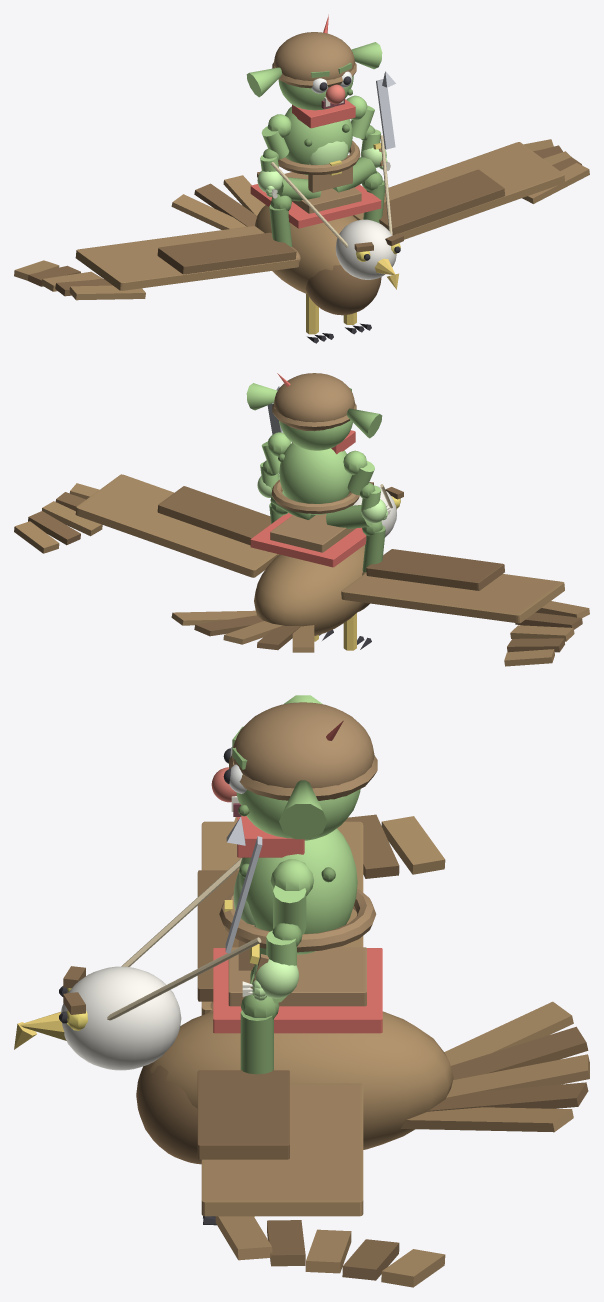
File: troll_eaglerider.glb
3 views of the same model, one above another, from view 1: azimuth 30°, elevation 25°; view 2: azimuth 150°, elevation 25°; view 3: azimuth 270°, elevation 25° (orthographic). The views are drawn at different scales.
Visible parts, largest first — view 1: Eagle_Wing, Eagle_Wing.001, Eagle_WingCovert.001, Eagle_WingCovert, Eagle_Body, EagleRider_Cap, Eagle_Breast, Eagle_Head, EagleRider_Body, Eagle_Blanket, Eagle_TailFeather, Eagle_TailFeather.001 (+23 smaller); view 2: Eagle_Wing.001, Eagle_Wing, Eagle_Body, Eagle_WingCovert, EagleRider_Body, Eagle_WingCovert.001, EagleRider_Cap, Eagle_Blanket, Eagle_Saddle, EagleRider_Head, EagleRider_Belt, Eagle_Primary.007 (+23 smaller); view 3: Eagle_Body, Eagle_Wing.001, EagleRider_Cap, Eagle_Head, Eagle_WingCovert.001, EagleRider_Body, Eagle_Blanket, Eagle_Saddle, Eagle_Breast, Eagle_TailFeather.004, Eagle_TailFeather, Eagle_TailFeather.001 (+24 smaller).
Boxes of the visible parts, left/top/right/bottom form: Eagle_Wing: left=75, top=226, right=299, bottom=290; Eagle_Wing.001: left=353, top=142, right=564, bottom=239; Eagle_WingCovert.001: left=379, top=169, right=505, bottom=235; Eagle_WingCovert: left=157, top=232, right=296, bottom=274; Eagle_Body: left=255, top=205, right=357, bottom=293; EagleRider_Cap: left=274, top=32, right=354, bottom=80; Eagle_Breast: left=305, top=265, right=381, bottom=315; Eagle_Head: left=335, top=219, right=396, bottom=279; EagleRider_Body: left=284, top=106, right=352, bottom=175; Eagle_Blanket: left=250, top=184, right=381, bottom=228; Eagle_TailFeather: left=171, top=194, right=246, bottom=229; Eagle_TailFeather.001: left=194, top=183, right=256, bottom=226; Eagle_Wing.001: left=75, top=474, right=278, bottom=577; Eagle_Wing: left=341, top=573, right=564, bottom=623; Eagle_Body: left=254, top=545, right=364, bottom=635; Eagle_WingCovert: left=366, top=549, right=504, bottom=590; EagleRider_Body: left=279, top=443, right=351, bottom=514; Eagle_WingCovert.001: left=157, top=486, right=270, bottom=551; EagleRider_Cap: left=274, top=373, right=354, bottom=431; Eagle_Blanket: left=250, top=513, right=366, bottom=567; Eagle_Saddle: left=270, top=514, right=355, bottom=552; EagleRider_Head: left=279, top=420, right=352, bottom=450; EagleRider_Belt: left=271, top=479, right=359, bottom=513; Eagle_Primary.007: left=42, top=501, right=102, bottom=536; Eagle_Body: left=146, top=1011, right=453, bottom=1149; Eagle_Wing.001: left=201, top=1083, right=363, bottom=1216; EagleRider_Cap: left=232, top=702, right=374, bottom=800; Eagle_Head: left=61, top=966, right=181, bottom=1070; Eagle_WingCovert.001: left=197, top=1070, right=289, bottom=1159; EagleRider_Body: left=239, top=828, right=357, bottom=954; Eagle_Blanket: left=213, top=948, right=382, bottom=1033; Eagle_Saddle: left=228, top=947, right=366, bottom=1006; Eagle_Breast: left=136, top=1061, right=201, bottom=1164; Eagle_TailFeather.004: left=400, top=1107, right=573, bottom=1132; Eagle_TailFeather: left=444, top=1001, right=573, bottom=1065; Eagle_TailFeather.001: left=451, top=1026, right=588, bottom=1079.
Size of the model in its own units: 2.84 by 1.45 by 1.5.
